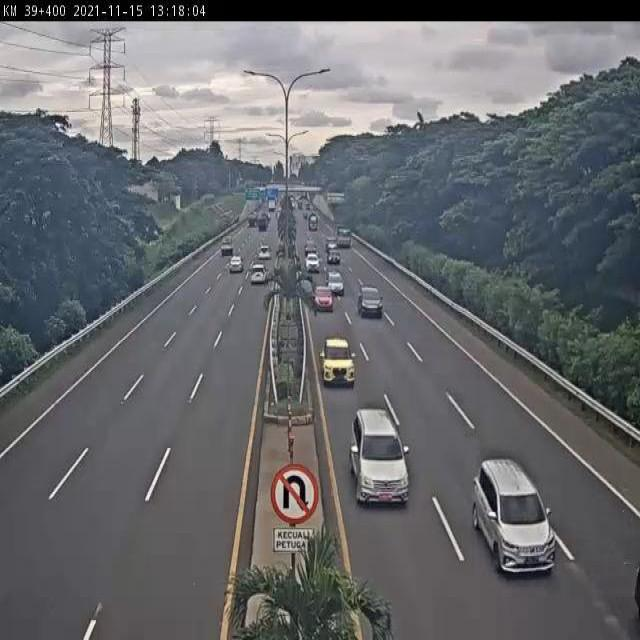car: (469, 456, 558, 573), (348, 409, 412, 503), (356, 285, 384, 320), (311, 284, 334, 313), (248, 262, 268, 286), (325, 270, 345, 294)
